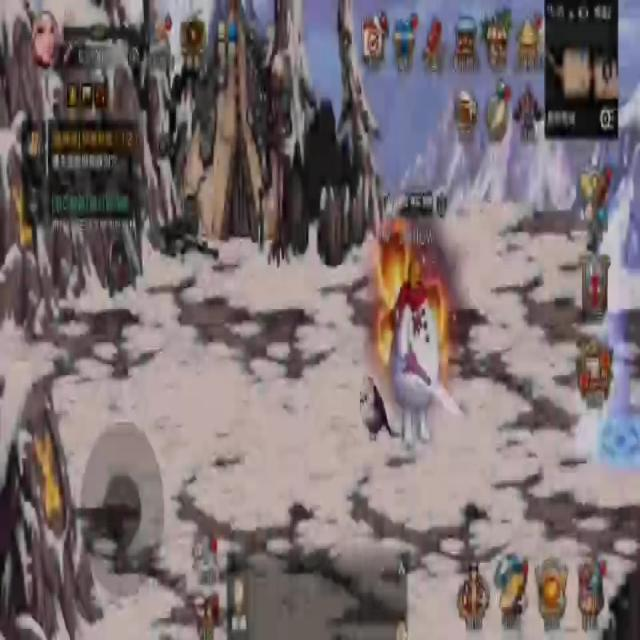player: (389, 256, 443, 448)
